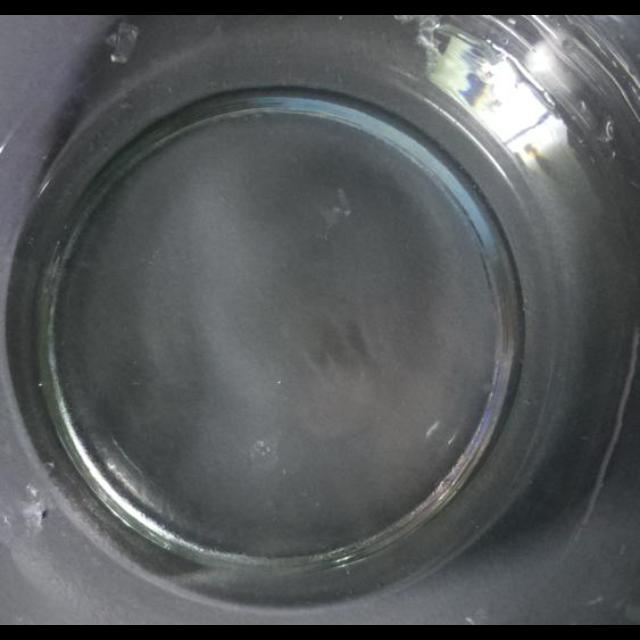Fibre: (318, 186, 352, 238), (408, 16, 444, 56), (106, 22, 140, 64)
microbeads: (18, 483, 50, 531), (25, 484, 39, 498)
